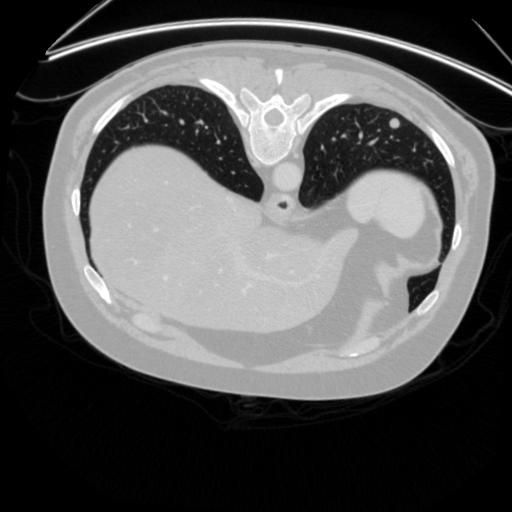nodule: (386, 116, 402, 132)
